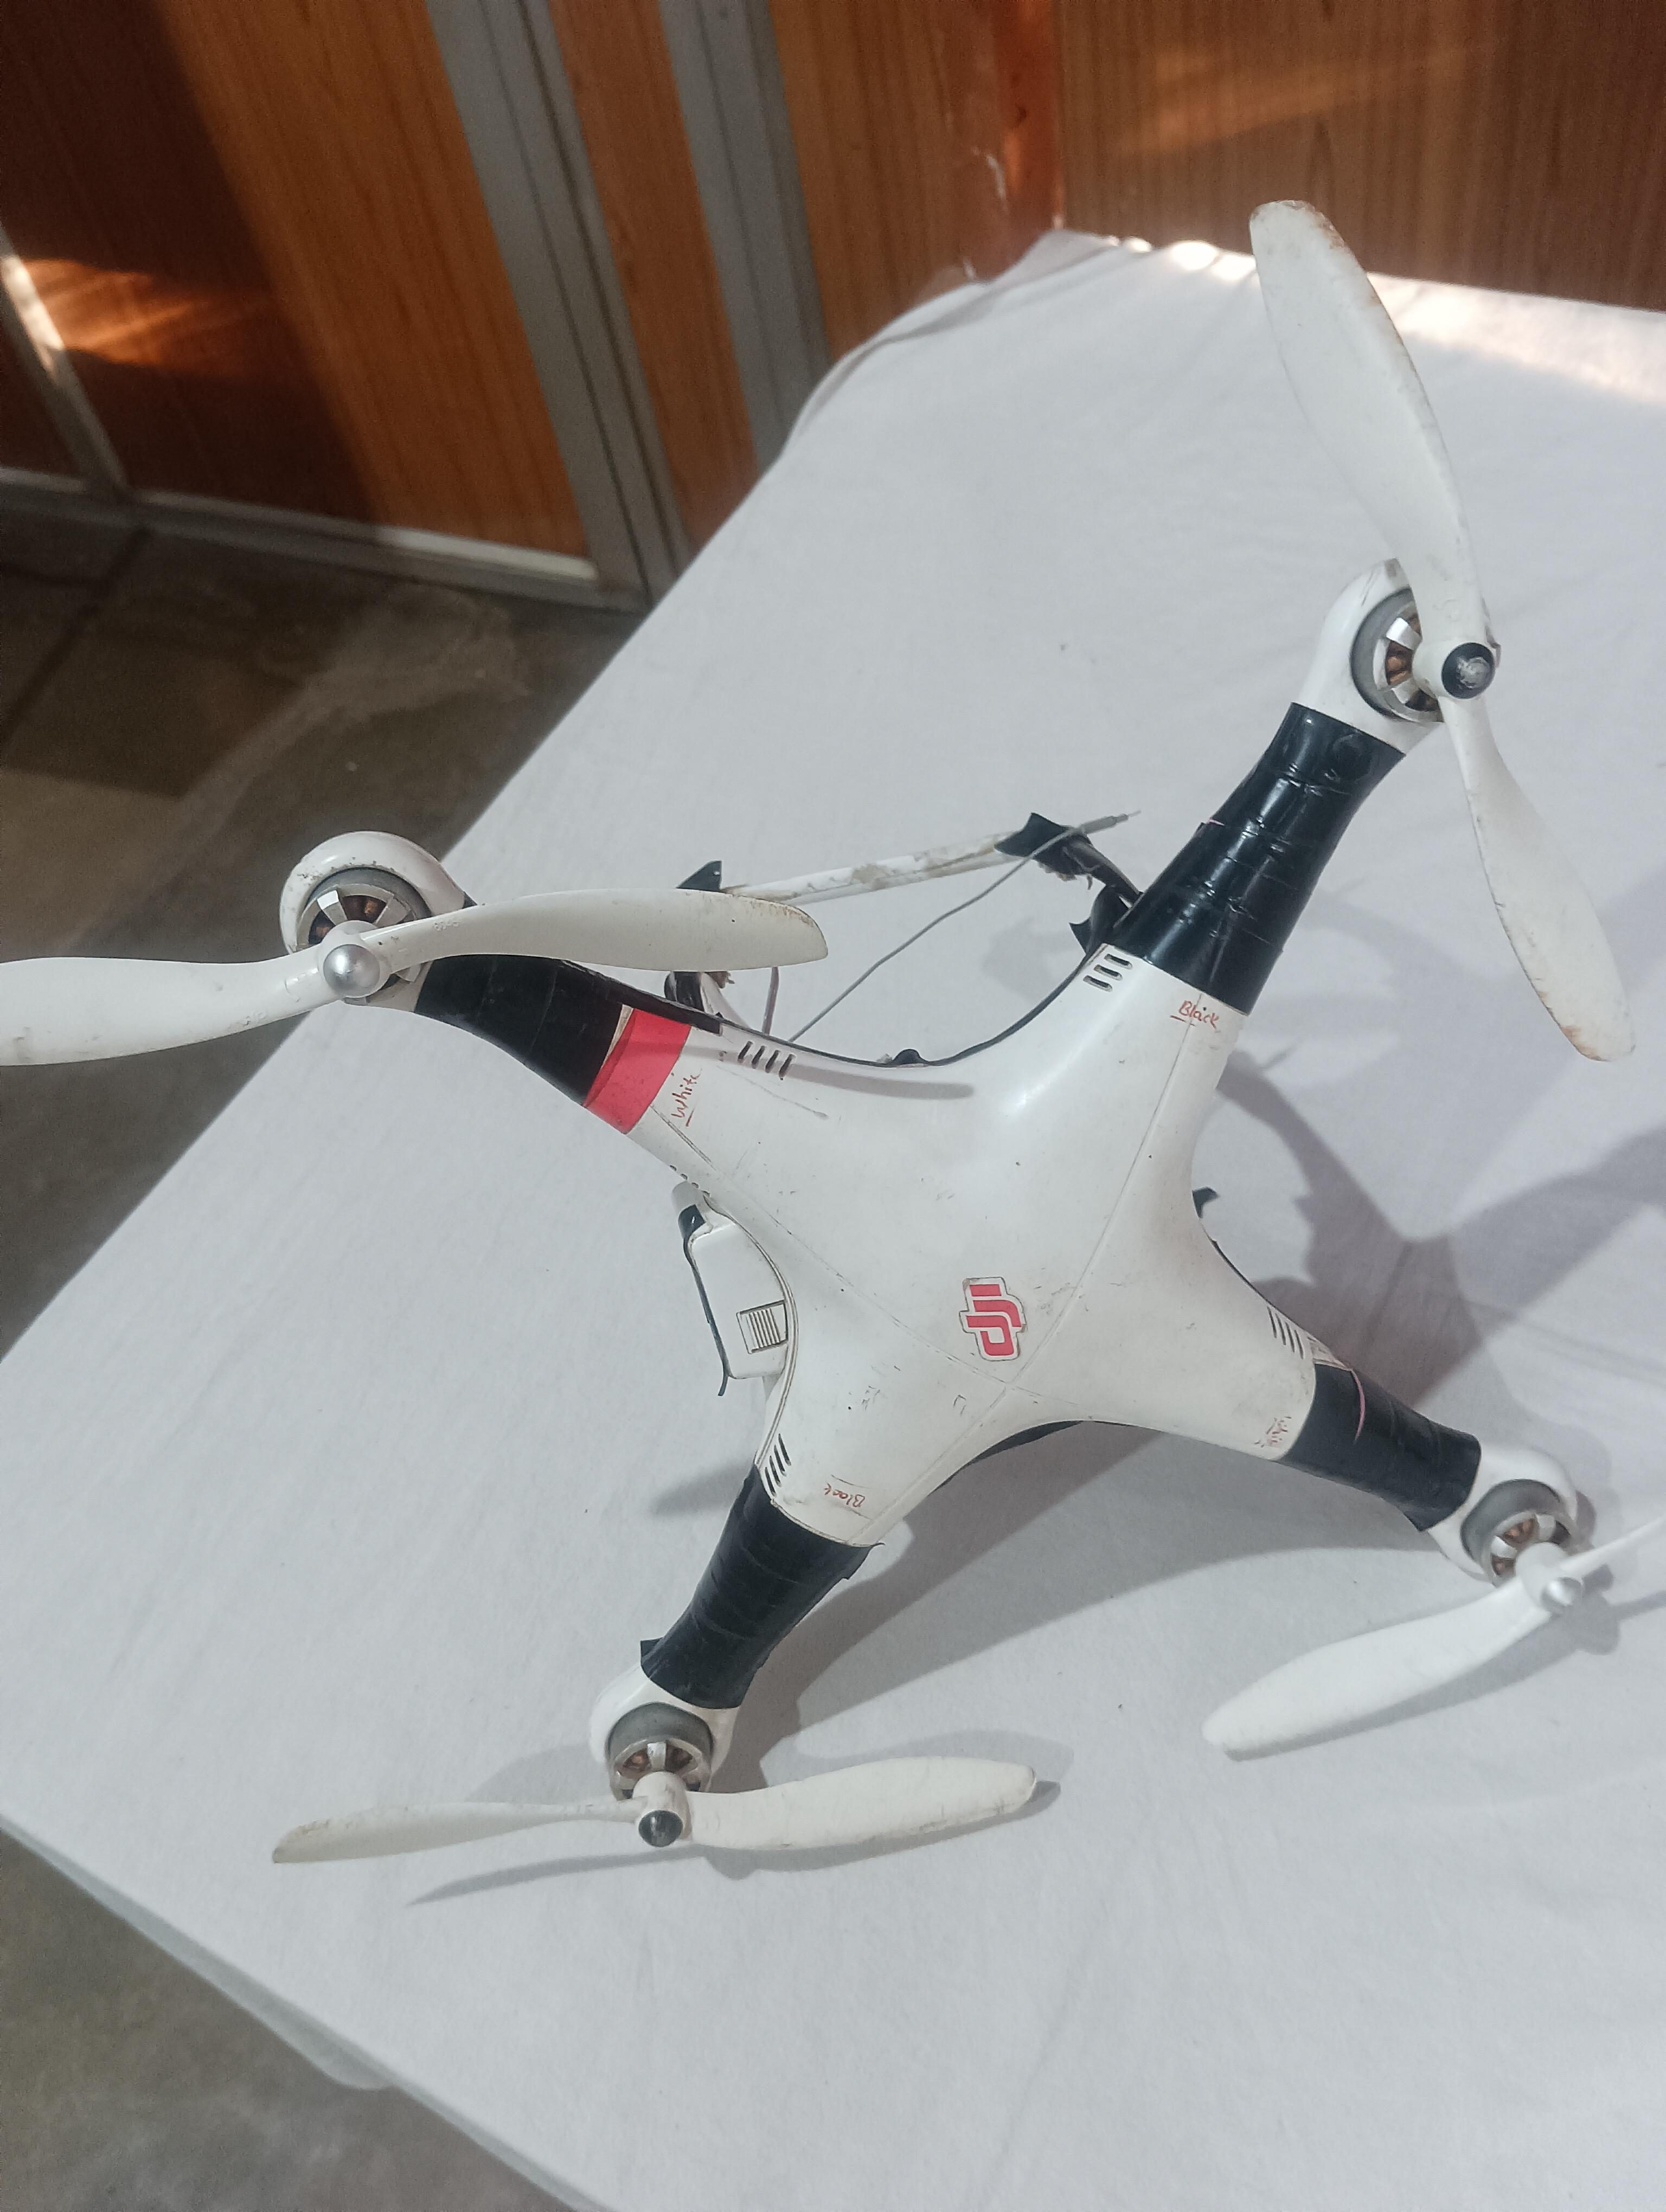drone: (0, 191, 1666, 1911)
